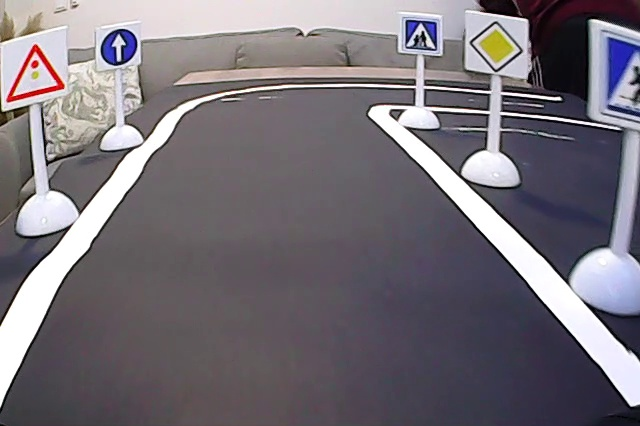red light: (5, 40, 70, 105)
school crossing: (401, 15, 440, 53)
